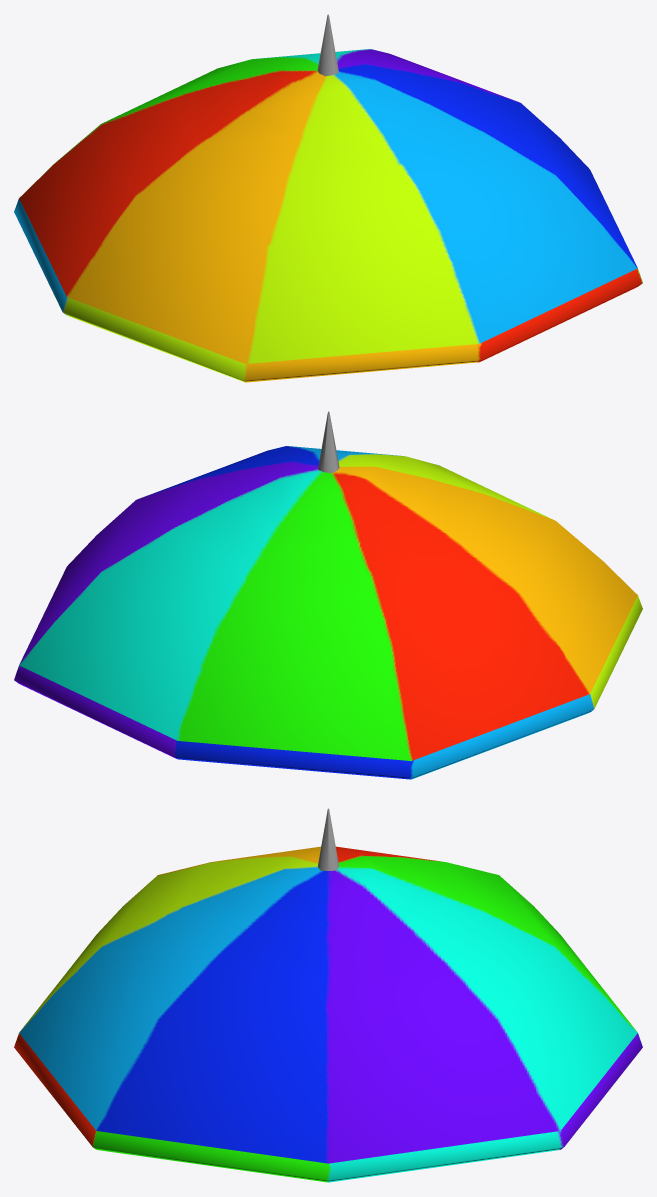
The model's file is SM_Umbrella_Hat.fbx.
3 renders of one model, top to bottom at view 1: azimuth 30°, elevation 25°; view 2: azimuth 150°, elevation 25°; view 3: azimuth 270°, elevation 25°, orthographic. The views are drawn at different scales.
Parts seen in each view (by area): view 1: pCube7; view 2: pCube7; view 3: pCube7.
Boxes of the visible parts, left/top/right/bottom form: pCube7: left=14, top=14, right=642, bottom=382; pCube7: left=14, top=411, right=642, bottom=779; pCube7: left=14, top=808, right=642, bottom=1182.
Size of the model in its own units: 3.61 by 1.62 by 3.61.
2 materials, 1 textured.
